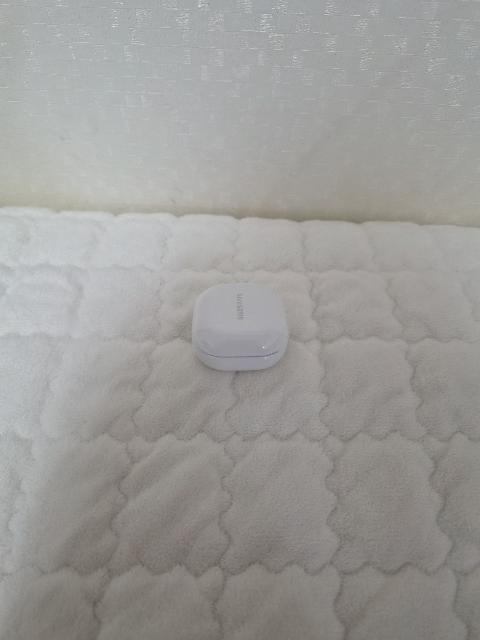earphone_case: (192, 283, 288, 371)
